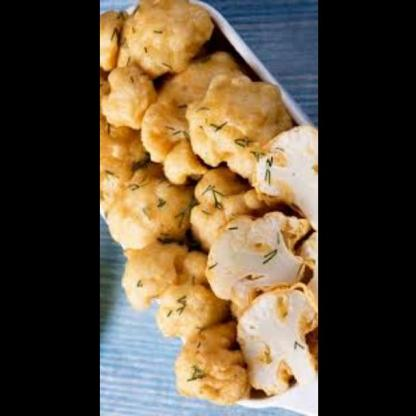cayliflower: (98, 5, 317, 412)
